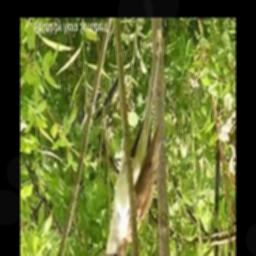Cuckoo: (99, 28, 162, 256)
